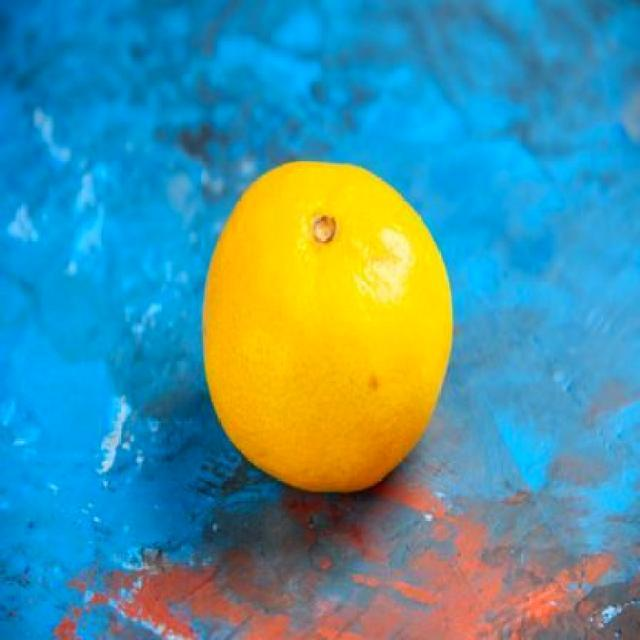Jeruk Sudah Matang: (202, 162, 456, 496)
